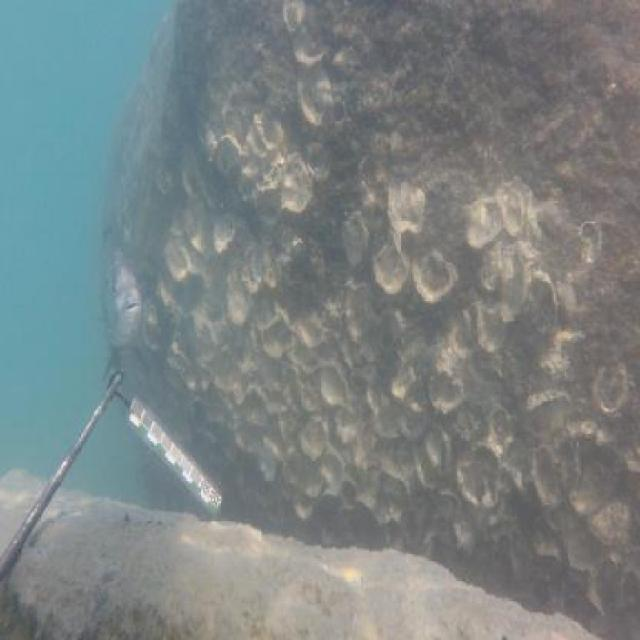acanthopagrus_palmaris: (96, 224, 152, 374)
